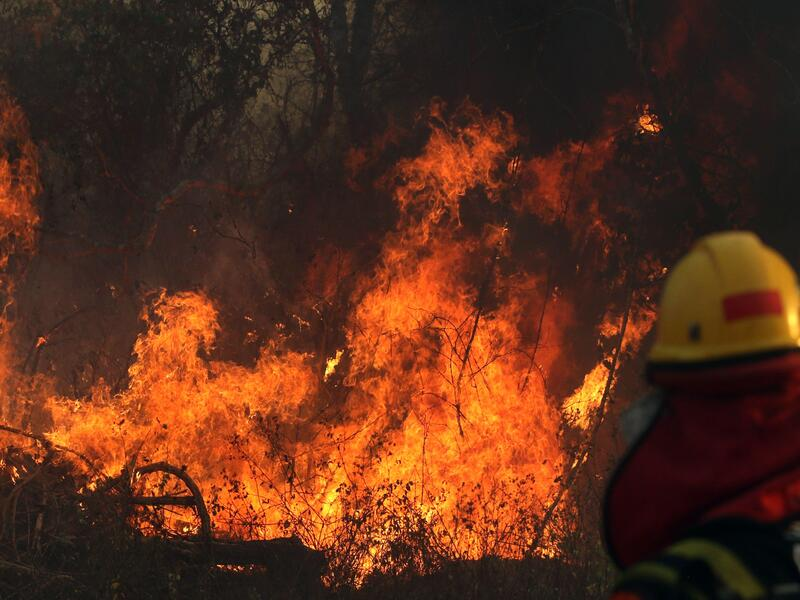fire: (118, 269, 587, 563)
